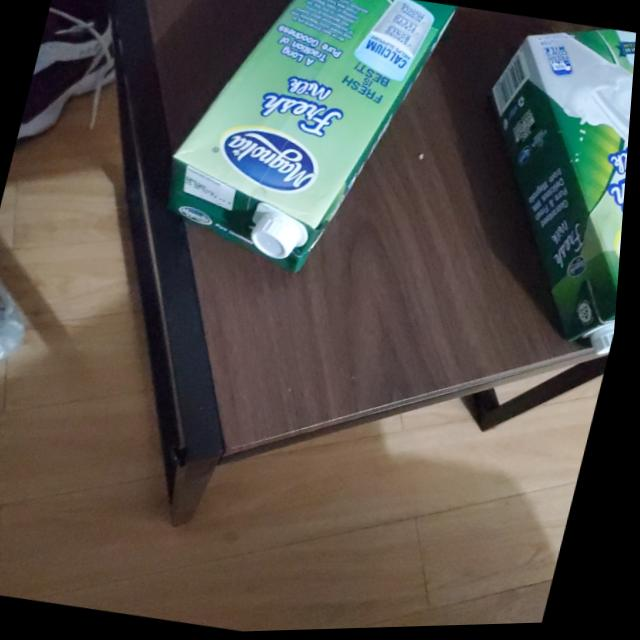milk: (151, 0, 466, 298), (438, 15, 638, 354)
